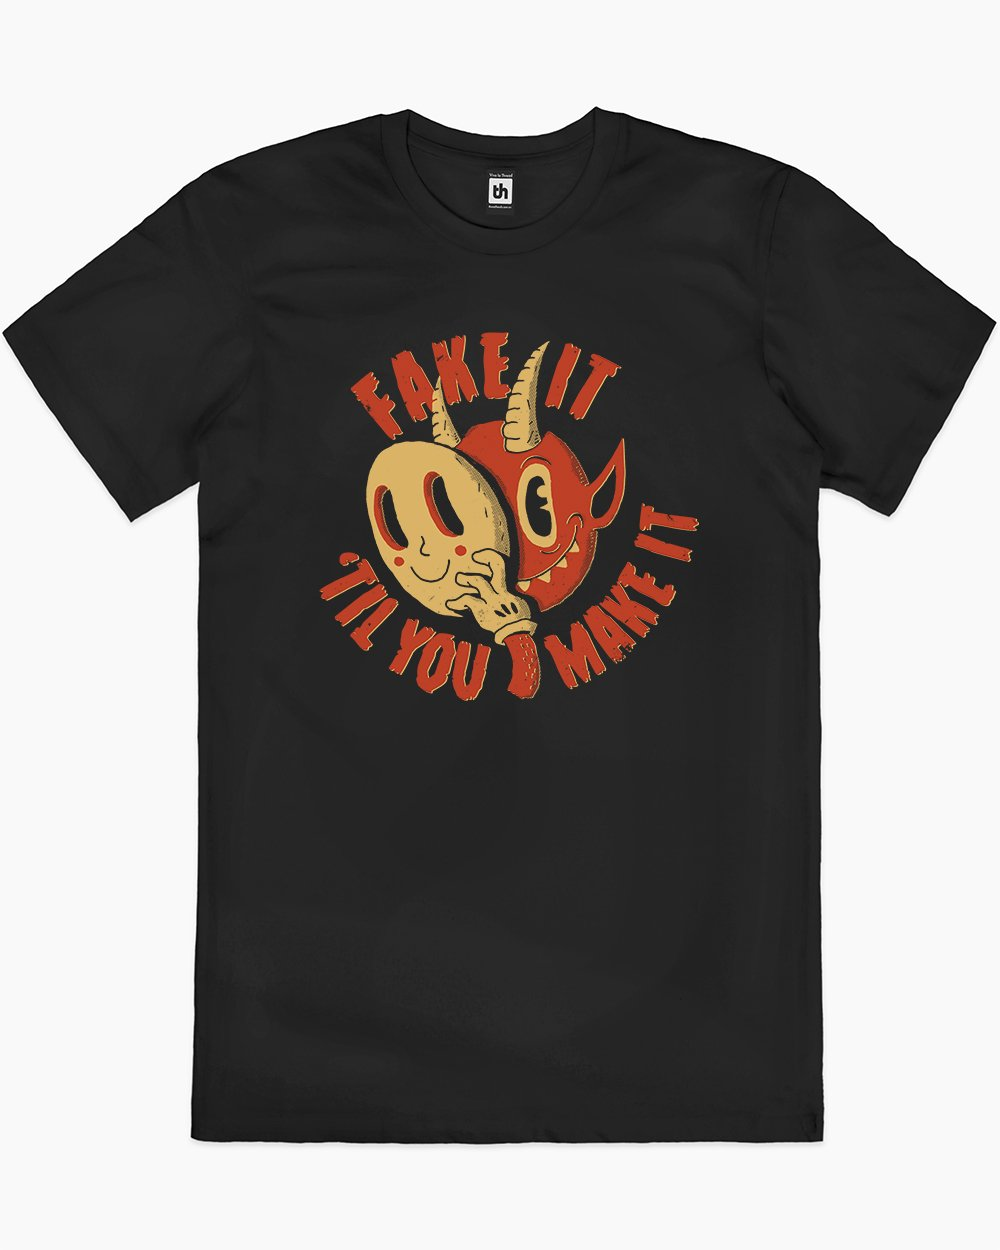design: (312, 324, 704, 706)
